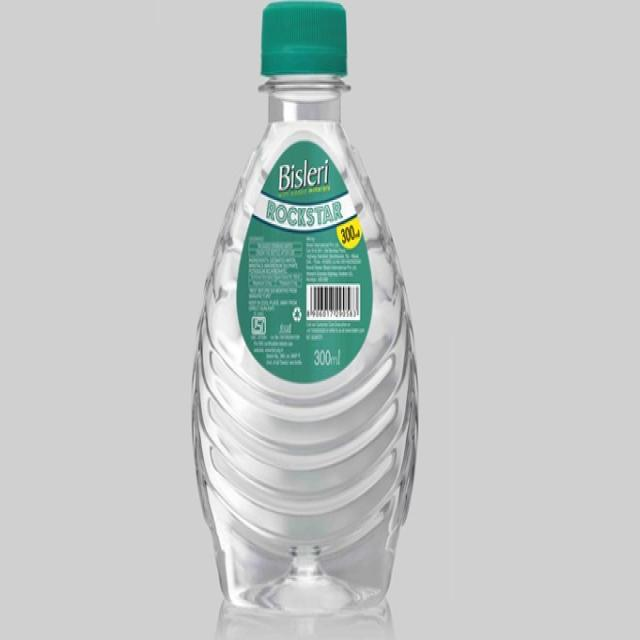bottle: (176, 0, 447, 640)
